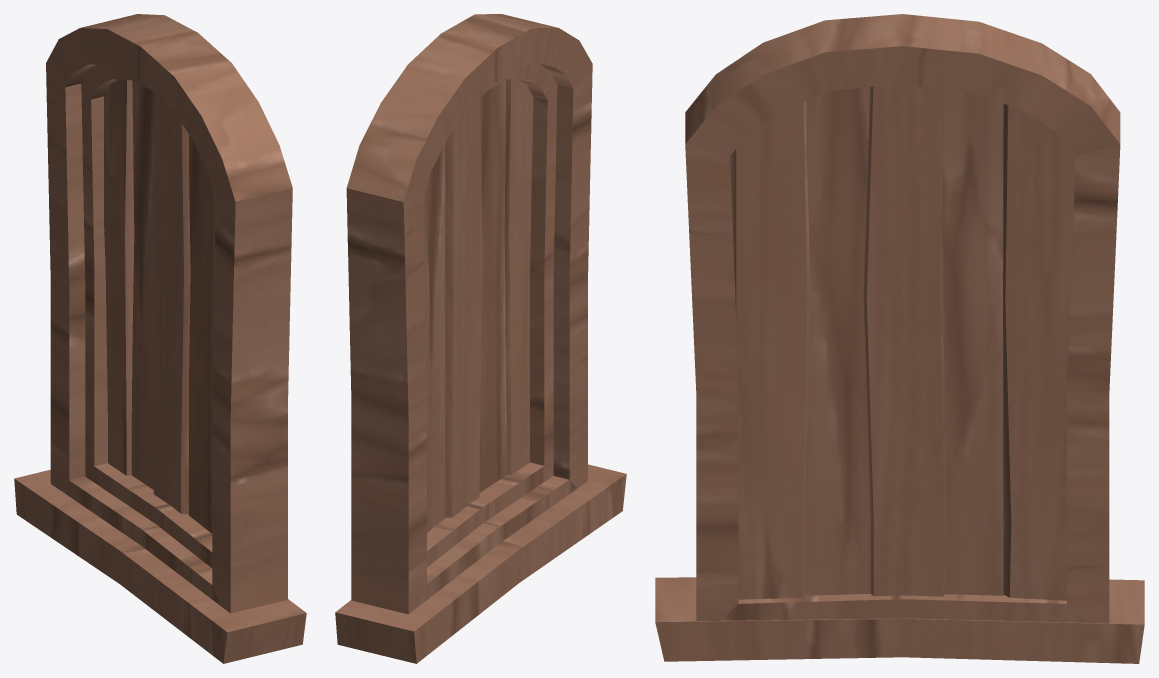
File: SM_wooden_window_02.fbx
3 renders of one model, left to right at view 1: azimuth 30°, elevation 25°; view 2: azimuth 150°, elevation 25°; view 3: azimuth 270°, elevation 25°, orthographic. The views are drawn at different scales.
Visible parts, largest first — view 1: SM_wooden_window_02_LOD0; view 2: SM_wooden_window_02_LOD0; view 3: SM_wooden_window_02_LOD0.
Part boxes in pixels (x1,y1,x2,y2): SM_wooden_window_02_LOD0: (14, 14, 306, 663); SM_wooden_window_02_LOD0: (335, 14, 626, 663); SM_wooden_window_02_LOD0: (655, 14, 1144, 663).
Size of the model in its own units: 35.78 by 167 by 232.
